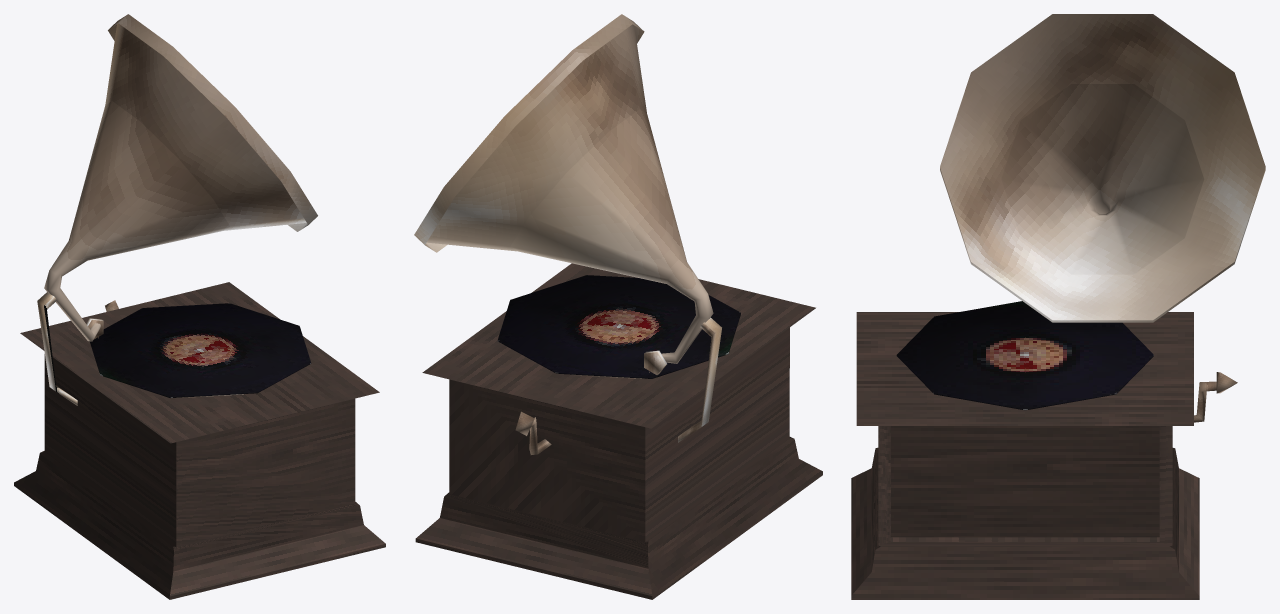
The model's file is Gramofone_fullTex.glb.
3 views of the same model, side by side, from view 1: azimuth 30°, elevation 25°; view 2: azimuth 150°, elevation 25°; view 3: azimuth 270°, elevation 25° (orthographic). The views are drawn at different scales.
Parts seen in each view (by area): view 1: Base, Corneta, Disco, Base.001, Suporte; view 2: Base, Corneta, Disco, Base.001, Suporte, Alavanca; view 3: Corneta, Base, Disco, Base.001, Alavanca.
Part boxes in pixels (x1,y1,x2,y2): Base: (14,354,385,599); Corneta: (44,14,317,341); Disco: (89,303,311,397); Base.001: (20,282,379,443); Suporte: (37,292,77,405); Base: (415,327,822,599); Corneta: (414,14,713,363); Disco: (497,275,740,378); Base.001: (422,263,815,428); Suporte: (678,317,721,442); Alavanca: (515,411,551,454); Corneta: (940,14,1265,322); Base: (851,426,1199,599); Disco: (896,301,1153,410); Base.001: (856,312,1193,425); Alavanca: (1194,372,1237,422).
Bounding box in the file's own units: 0.3584 × 0.65 × 0.4705.
5 materials, 5 textured.
